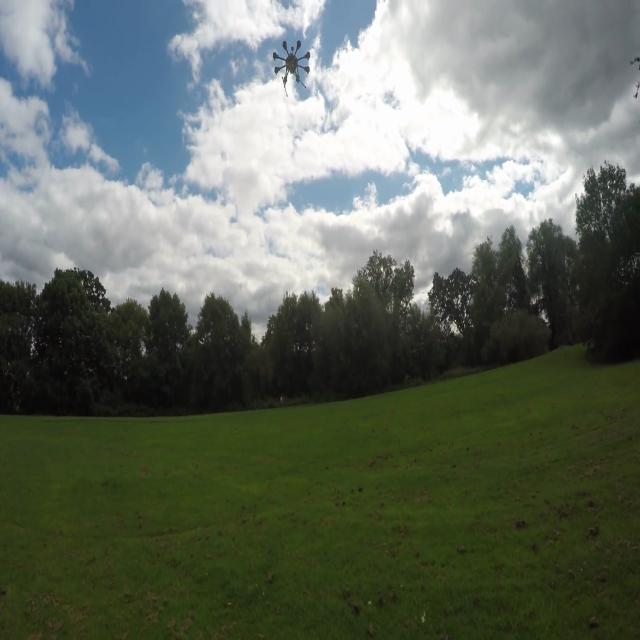drone: (269, 23, 313, 96)
